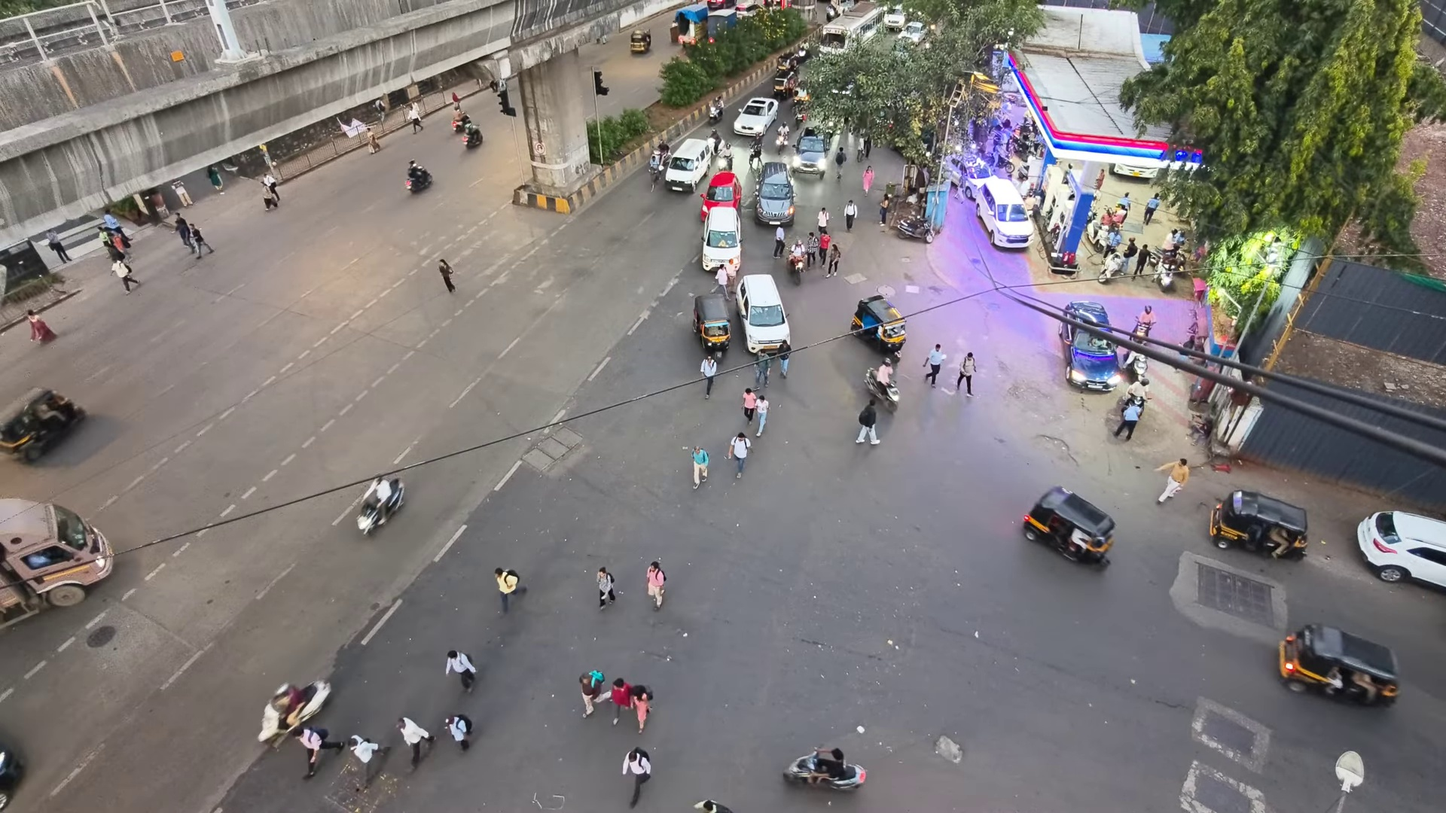driving: (0, 498, 113, 626)
walking: (292, 726, 343, 778), (350, 735, 389, 791), (398, 717, 434, 769), (623, 748, 650, 807), (1156, 458, 1188, 503), (496, 568, 526, 613), (445, 650, 475, 692), (579, 671, 605, 718), (1113, 401, 1142, 440), (444, 714, 473, 751), (856, 399, 879, 444), (630, 684, 651, 732), (728, 432, 750, 477), (923, 344, 946, 387), (102, 209, 128, 247), (611, 678, 632, 725), (111, 260, 140, 294), (27, 310, 56, 343), (646, 562, 666, 609), (956, 352, 975, 395), (596, 567, 615, 609), (191, 225, 214, 259), (691, 446, 709, 489), (46, 230, 70, 262), (700, 353, 717, 398), (175, 215, 193, 251), (438, 258, 455, 293), (775, 340, 791, 377), (755, 394, 769, 436), (1121, 237, 1139, 269), (755, 351, 770, 388), (172, 180, 193, 206), (1143, 193, 1160, 224), (825, 242, 840, 276), (407, 102, 423, 133), (694, 799, 732, 812), (742, 388, 756, 423), (262, 172, 278, 202), (805, 232, 819, 266), (834, 145, 847, 181), (262, 182, 278, 211), (206, 166, 223, 193), (818, 232, 831, 266), (1135, 245, 1149, 276), (715, 264, 728, 297), (773, 225, 786, 258), (365, 126, 380, 154), (844, 199, 857, 230), (879, 195, 890, 230), (1117, 192, 1132, 216), (862, 166, 874, 196), (817, 208, 830, 234), (862, 137, 871, 158)
